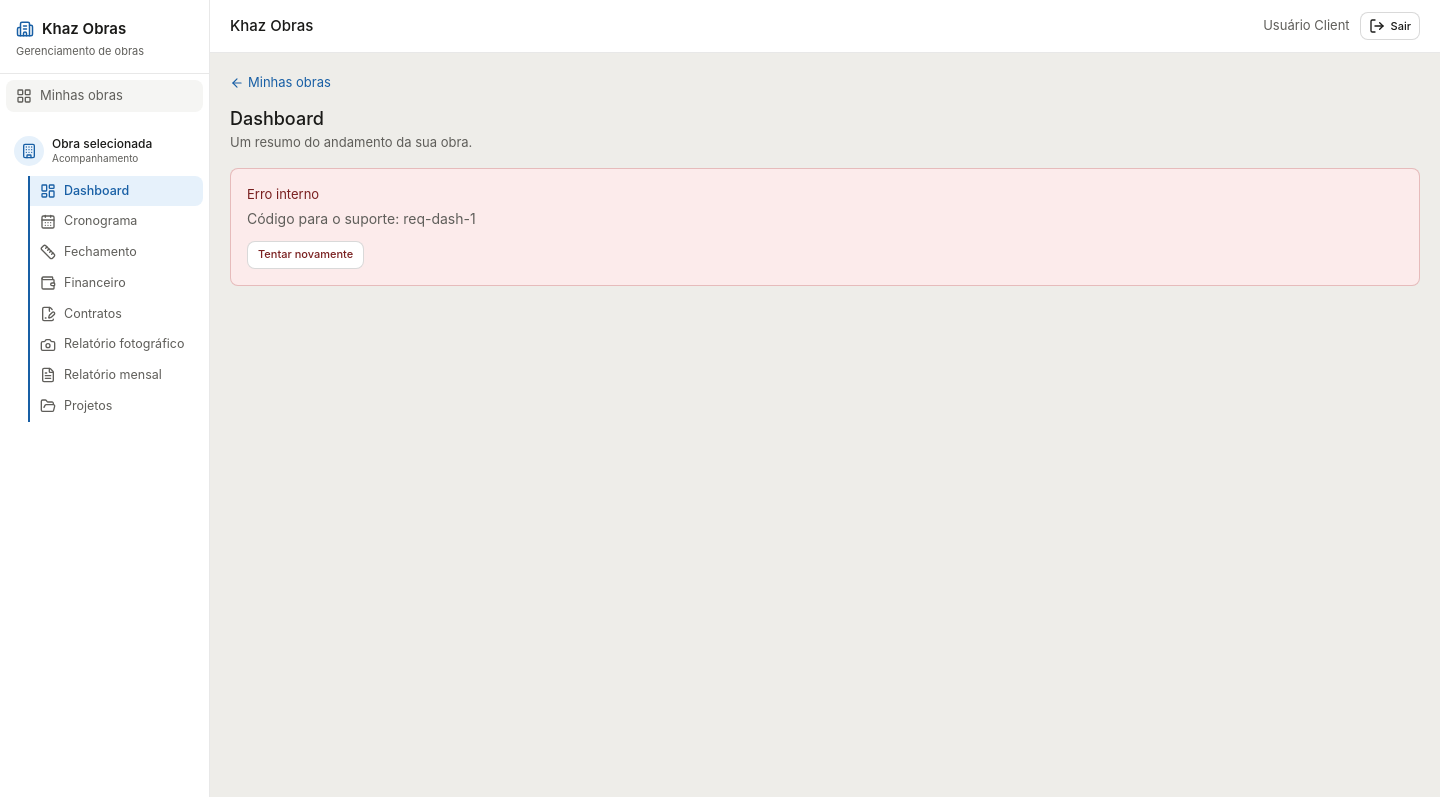
Test: Dashboard (cliente) › estados › erro 500 mostra o código de suporte e "Tentar novamente" recarrega
This screenshot has width=1440, height=797.
expect the message shows "req-dash-1": met, box x1=403 y1=210 x2=476 y2=226
expect the text "Avanço físico" is not shown: met
Click the button "Tentar novamente" at coordinates (306, 254), box x1=247 y1=240 x2=364 y2=268
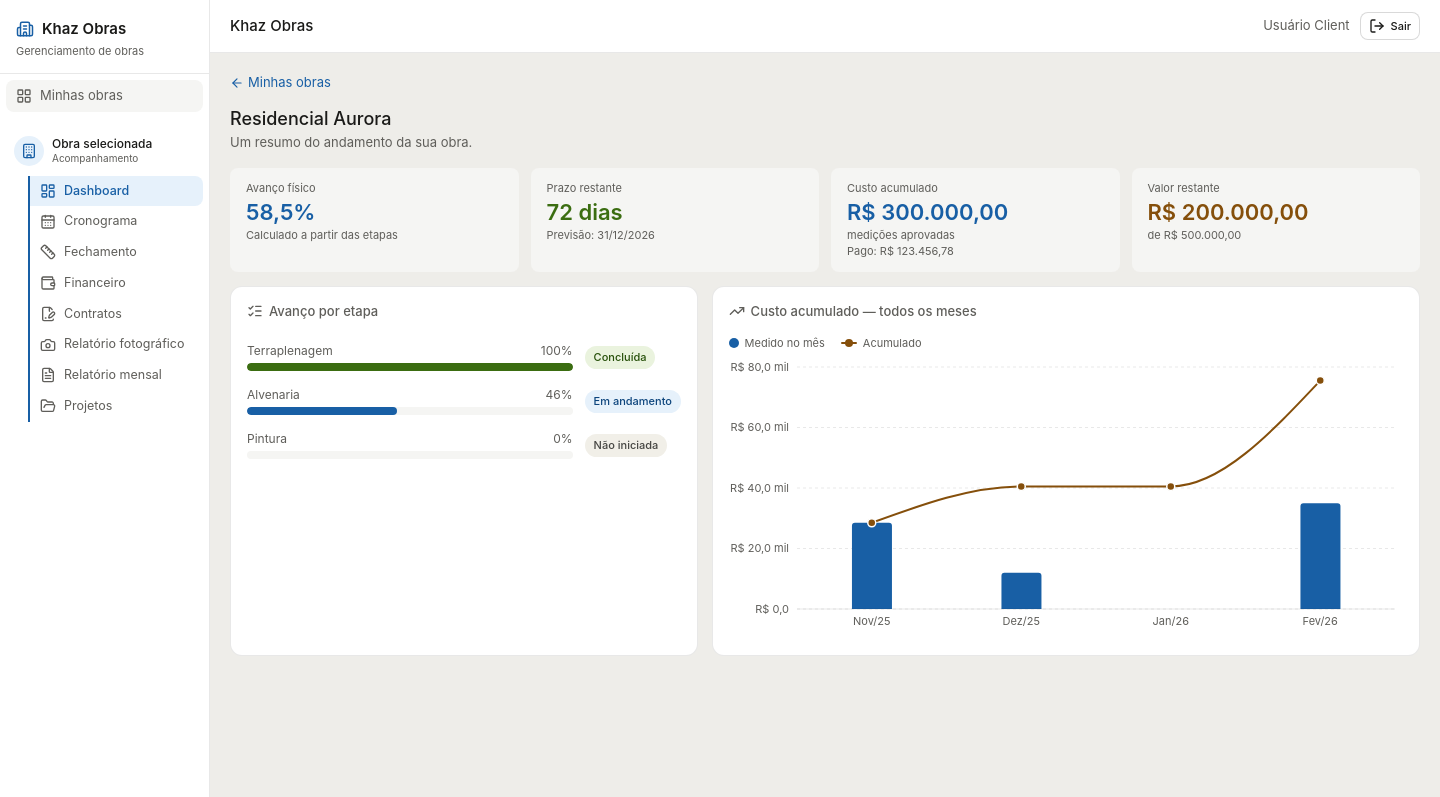
expect the text "Avanço físico" is shown: met, box x1=246 y1=181 x2=316 y2=195
expect the message "Erro interno Código para o suporte: req-dash-1 Tentar novamente" is gone: met
